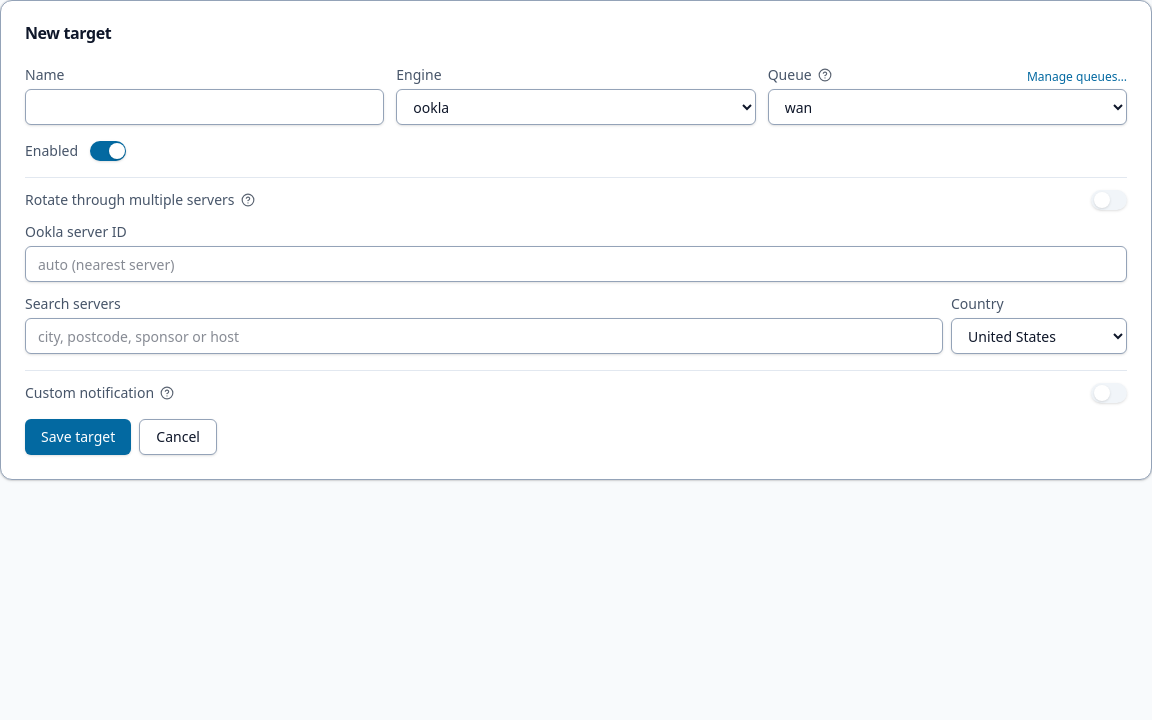
Scenario: TargetForm › refuses to submit without a name
This screenshot has width=1152, height=720.
Click the button "Save target": (78, 437) [25,419,131,455]
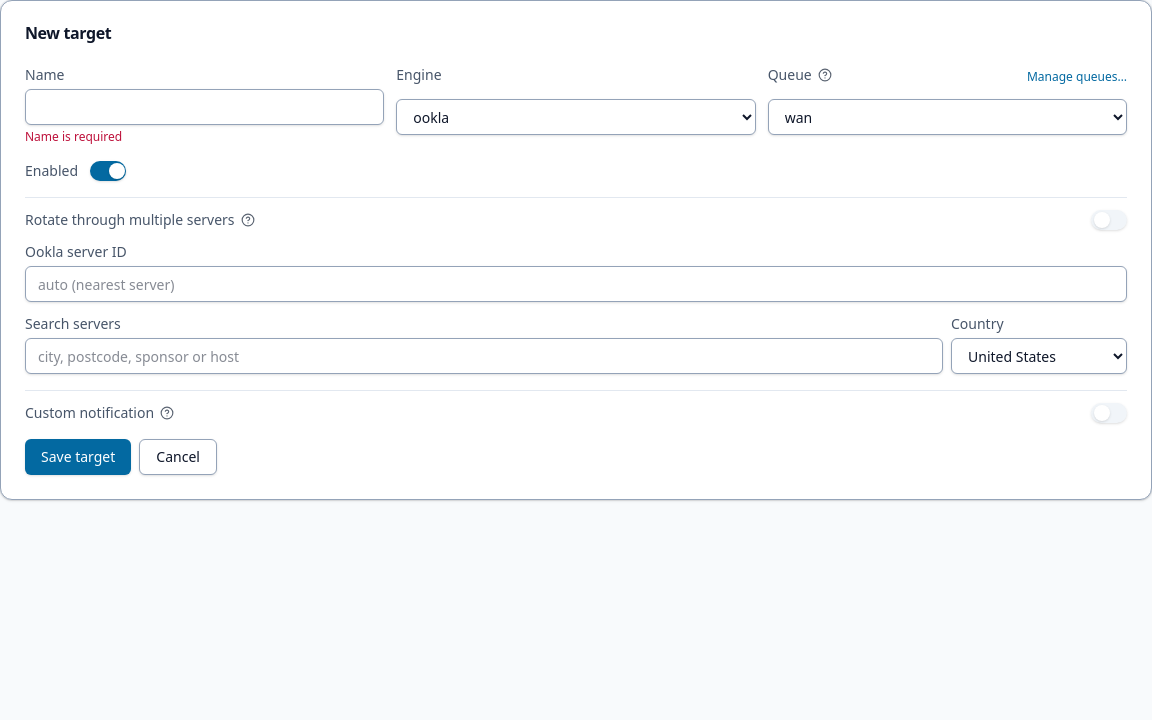
Expected: the text "Name is required" is shown, [25,128,122,145]
